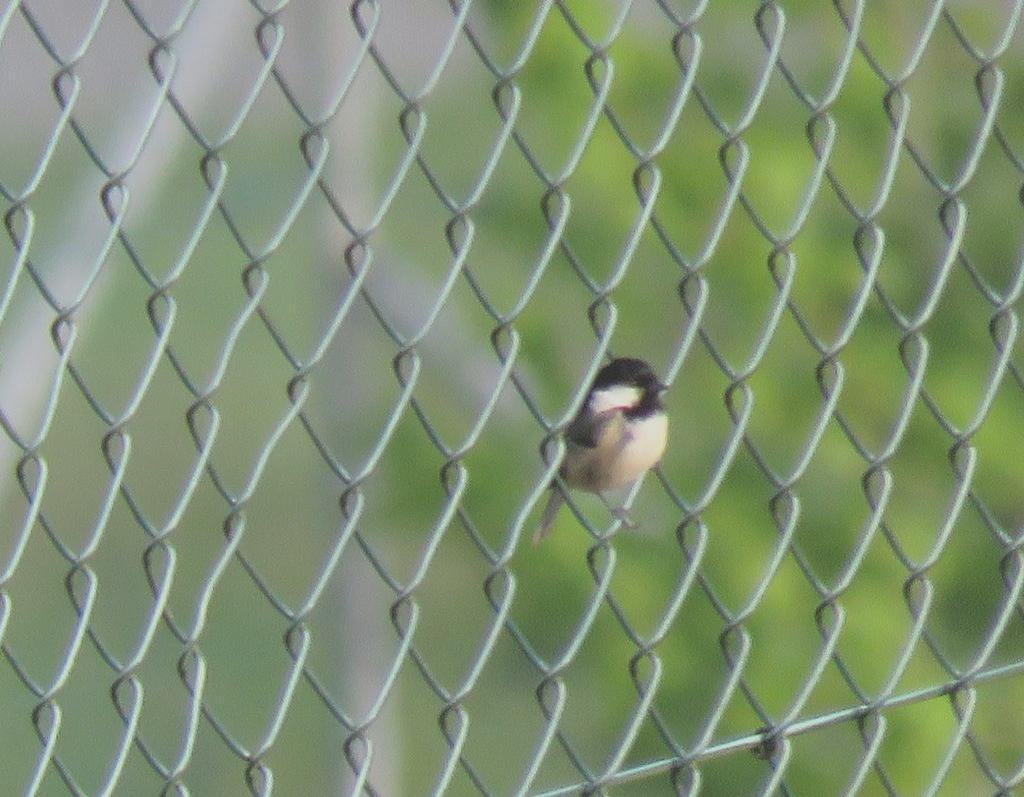PeriparusAter: (530, 354, 671, 550)
